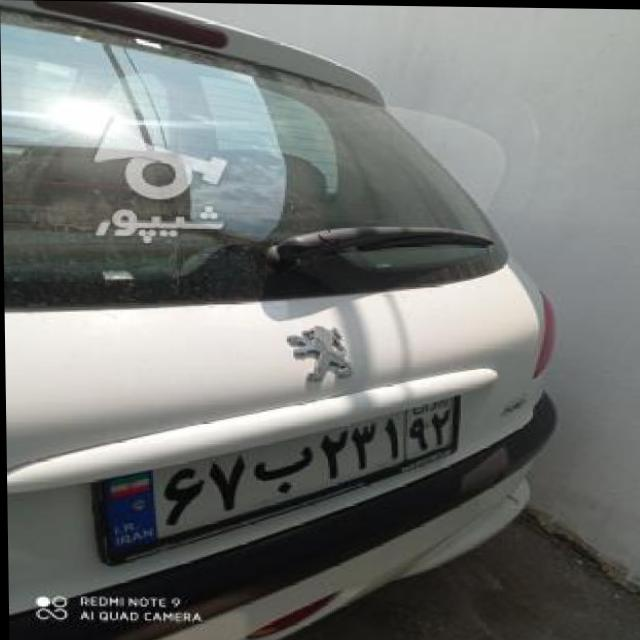licence: (93, 384, 457, 568)
